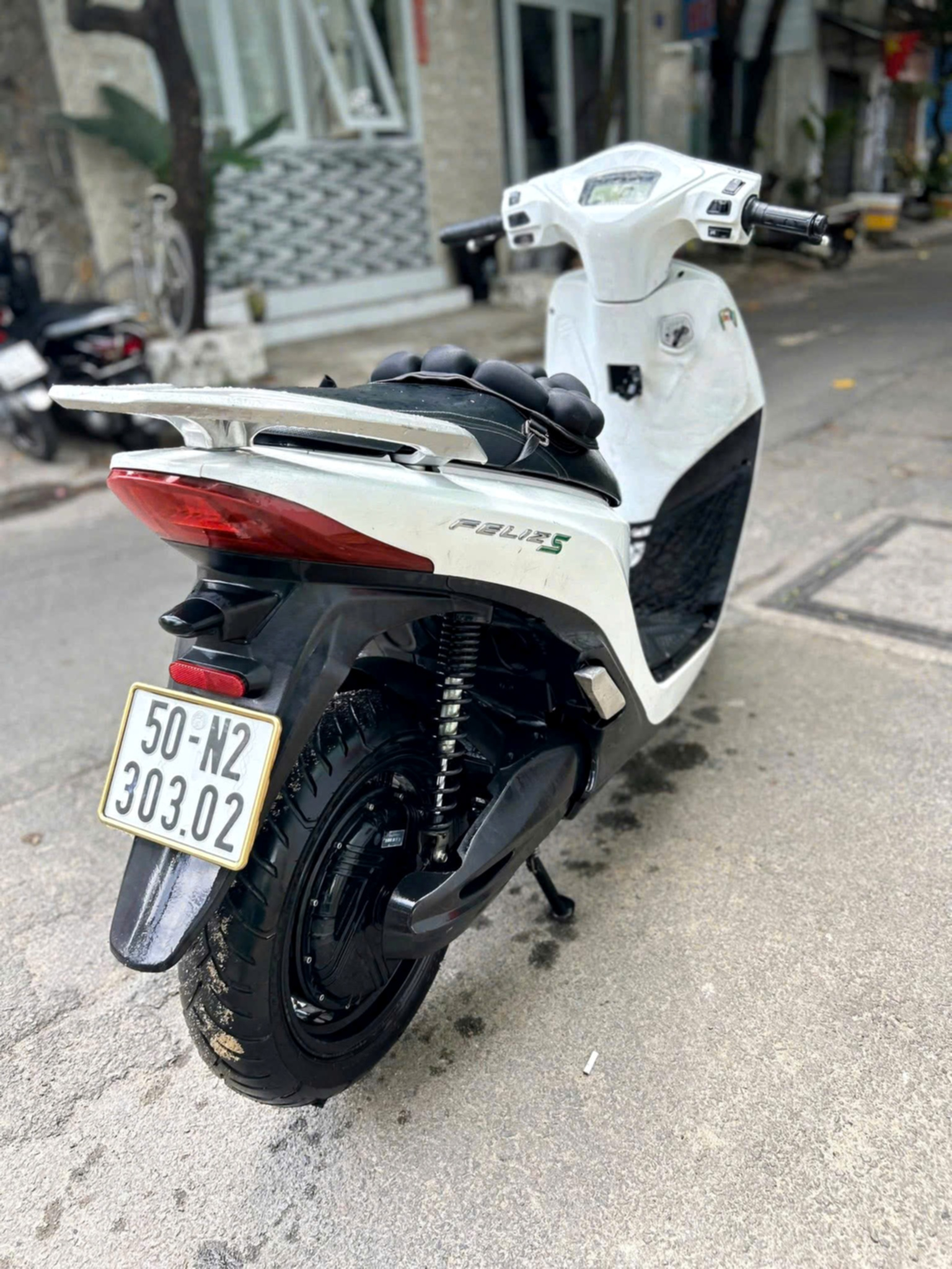Bien-so: (120, 645, 310, 840)
